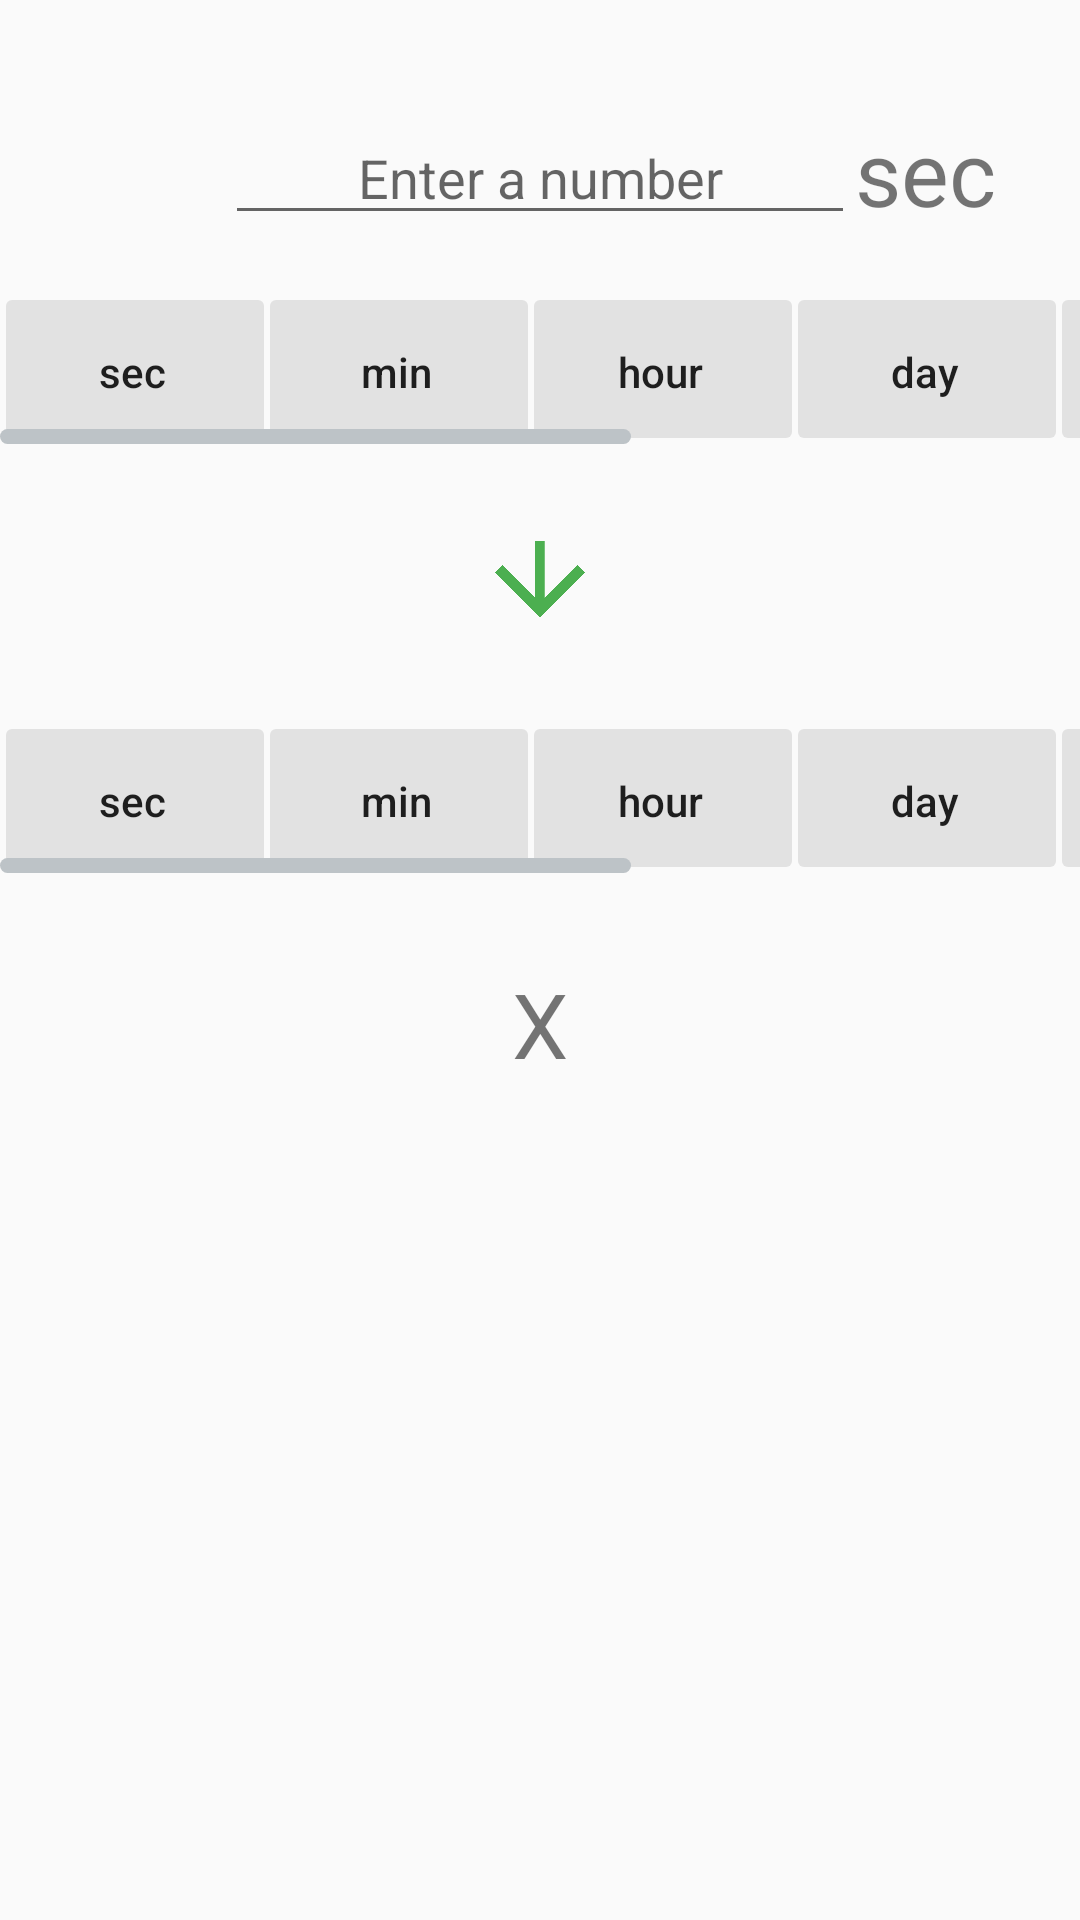

Point at icon controls on the screen. Image size 1080 × 1920, points as (x,y).
arrow: (540,579)
